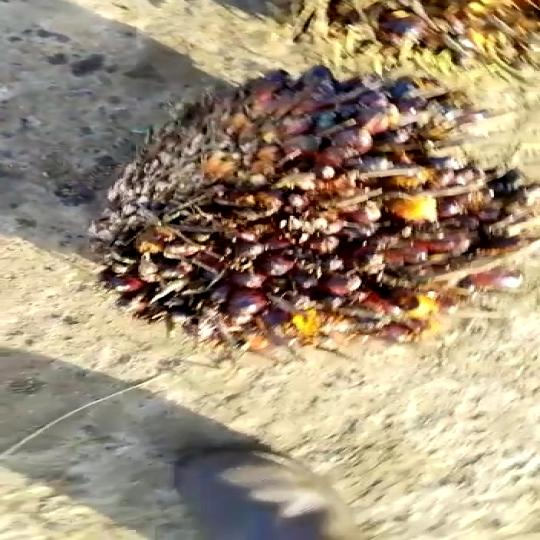masak: (71, 51, 540, 379)
